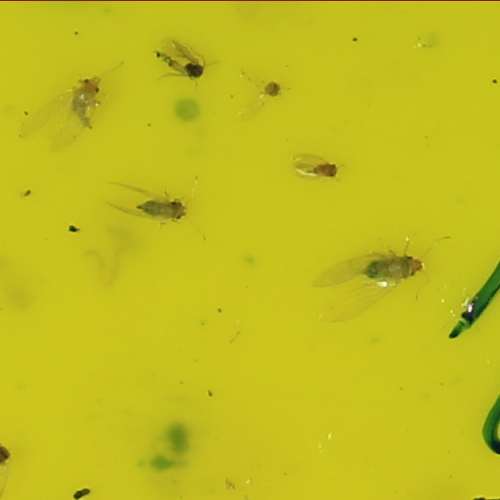Glycaspis: (67, 75, 105, 132), (359, 252, 428, 283), (136, 196, 187, 219)
psylla: (311, 161, 340, 179)
